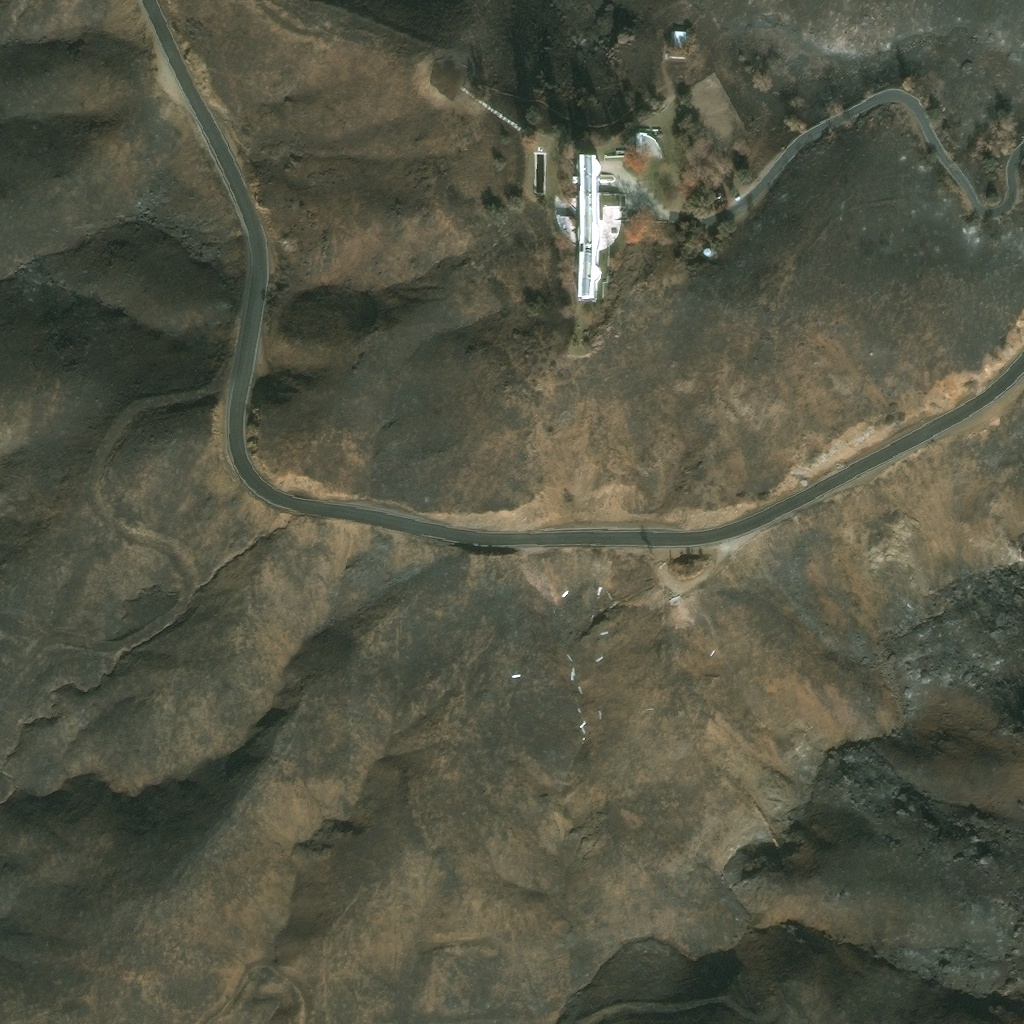0 no-damage: (576, 154, 622, 300), (672, 30, 686, 47), (667, 594, 681, 606), (710, 189, 724, 199), (701, 245, 712, 256)
